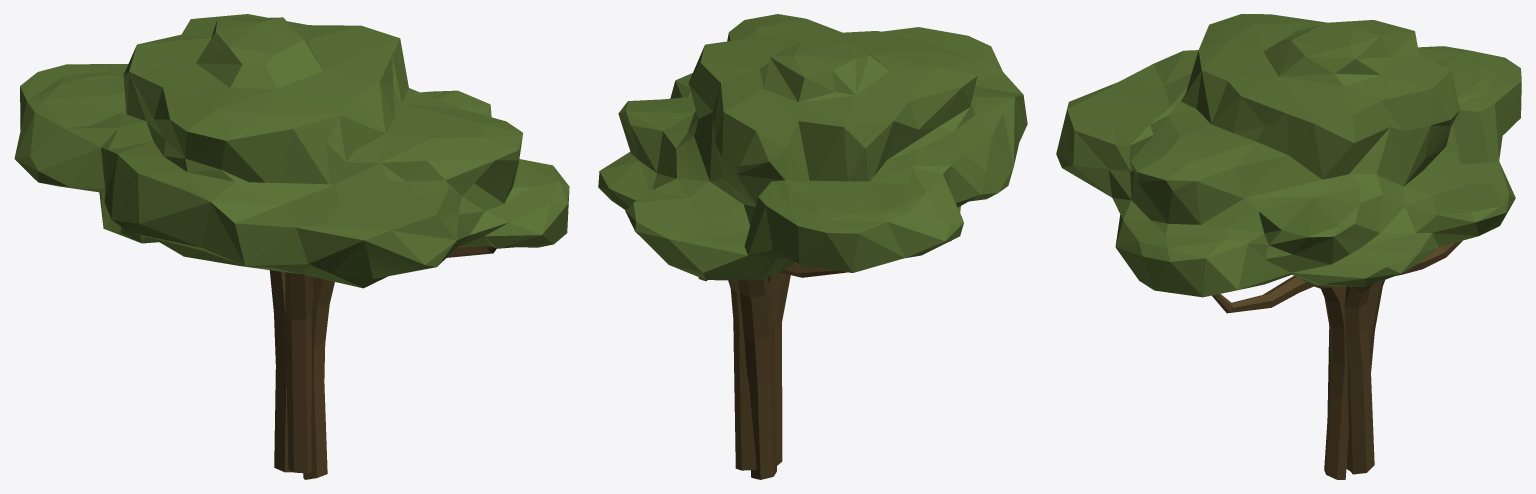
File: DarkWoodDecorationMediumTreeWithLeavesSingleCrown2.fbx
The picture shows the model from 3 angles, left to right: view 1: azimuth 30°, elevation 25°; view 2: azimuth 150°, elevation 25°; view 3: azimuth 270°, elevation 25°; orthographic projection. The views are drawn at different scales.
Parts seen in each view (by area): view 1: Canopy, Trunk; view 2: Canopy, Trunk; view 3: Canopy, Trunk.
Part boxes in pixels (x1,y1,x2,y2): Canopy: (14,14,569,288); Trunk: (269,246,496,479); Canopy: (598,14,1027,280); Trunk: (698,262,846,479); Canopy: (1056,14,1521,297); Trunk: (1212,240,1462,479).
Size of the model in its own units: 1505 by 1598 by 1629.
